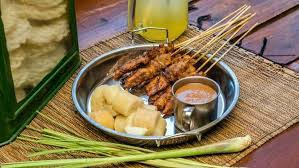sate: (88, 41, 228, 135)
